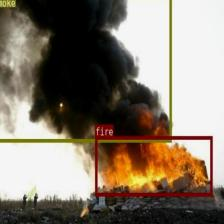fire: (95, 135, 212, 196)
smoke: (0, 0, 171, 142)
